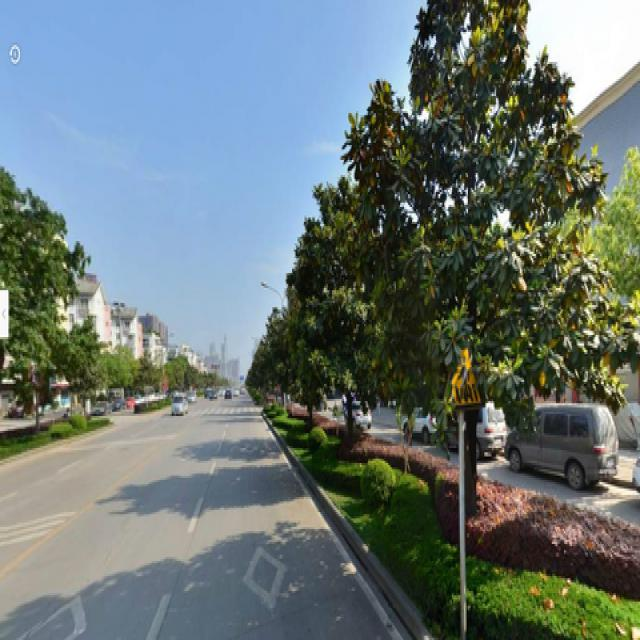magn: (384, 2, 592, 531)
